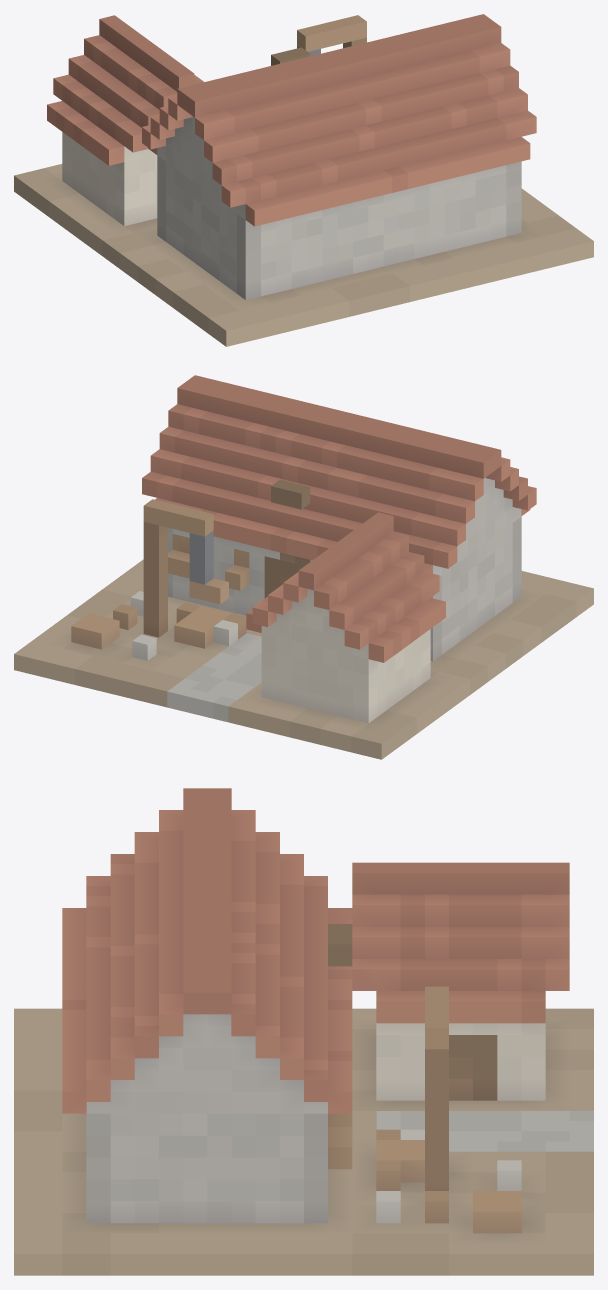
Rendered from warehouse.l3.lite.glb.
3 renders of one model, top to bottom at view 1: azimuth 30°, elevation 25°; view 2: azimuth 150°, elevation 25°; view 3: azimuth 270°, elevation 25°, orthographic. The views are drawn at different scales.
Visible parts, largest first — view 1: warehouse; view 2: warehouse; view 3: warehouse.
Boxes of the visible parts, x1,y1,x2,y2 form: warehouse: [14, 14, 593, 346]; warehouse: [14, 375, 593, 759]; warehouse: [14, 788, 593, 1275].
Size of the model in its own units: 6 by 3 by 6.
